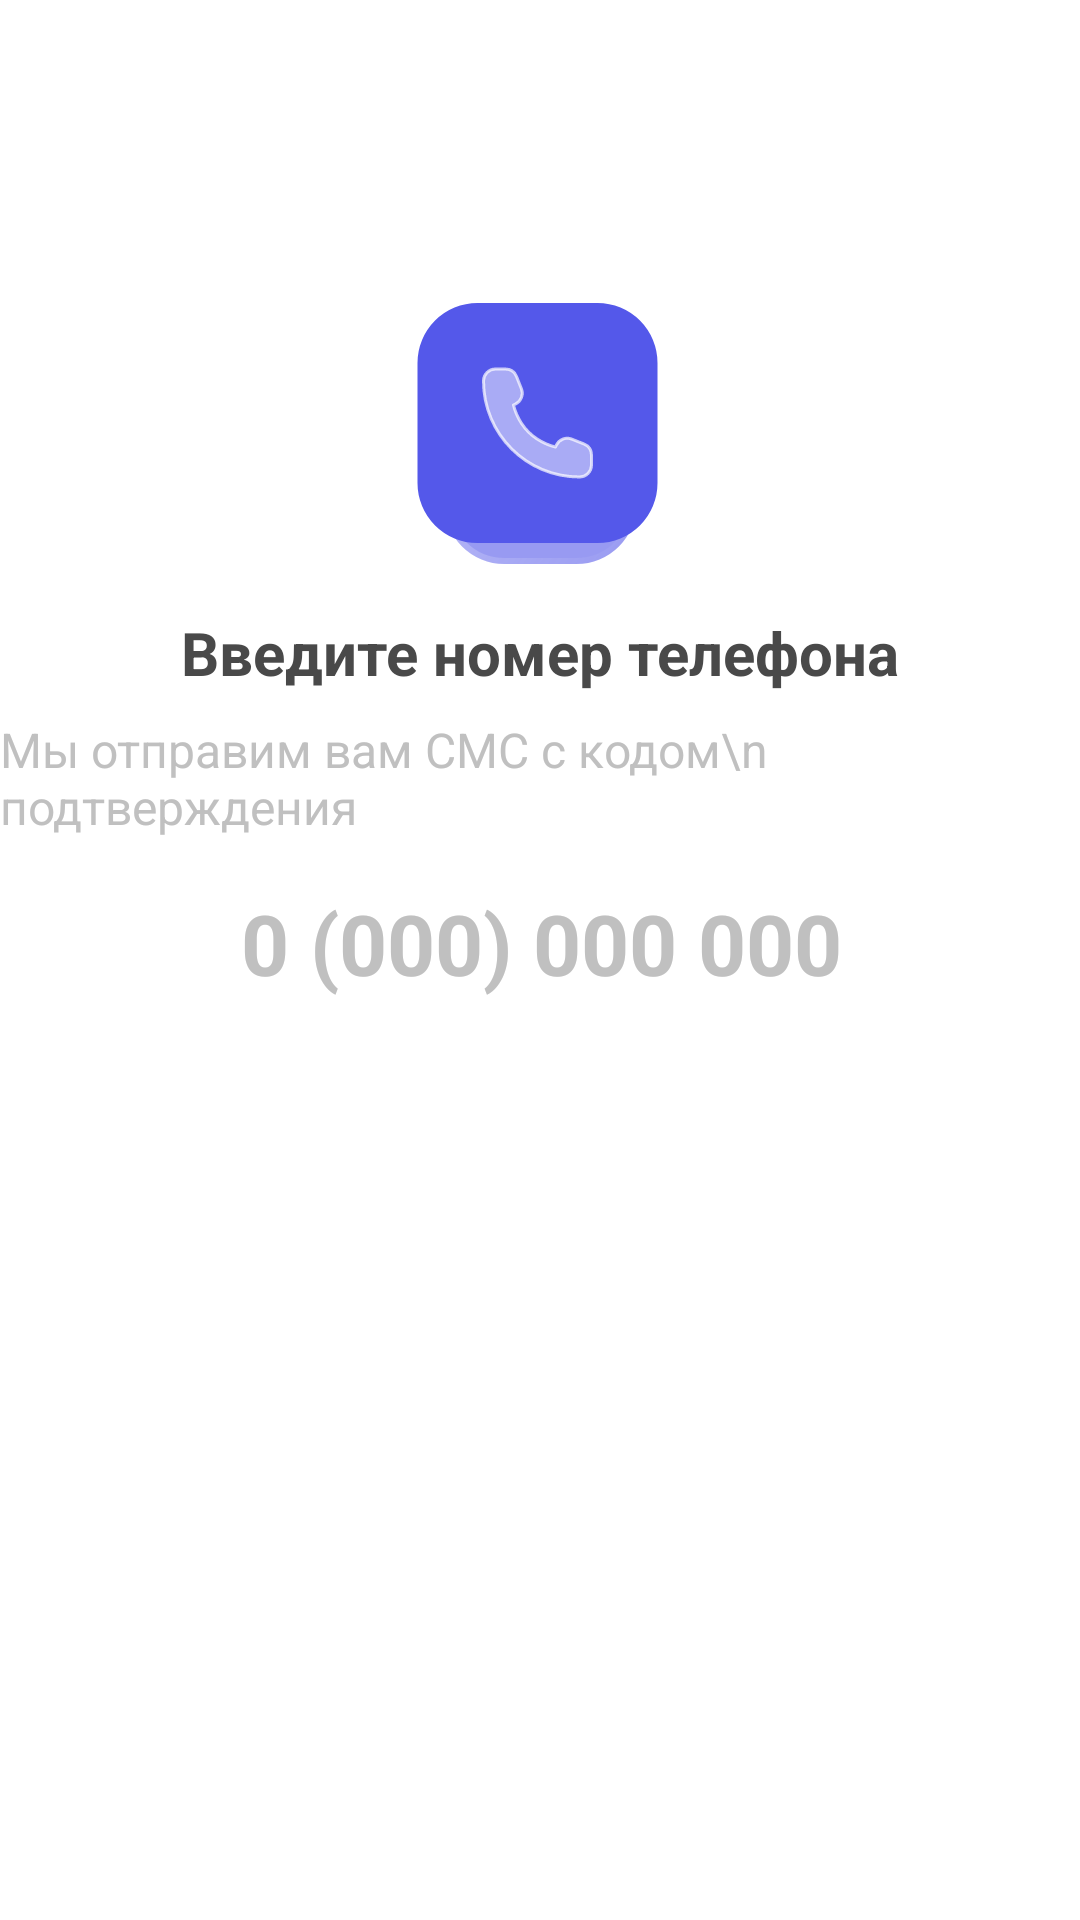

Named icons in this screenshot (1080px×1920px) and their centers, point (x, y):
number change: point (537, 433)
